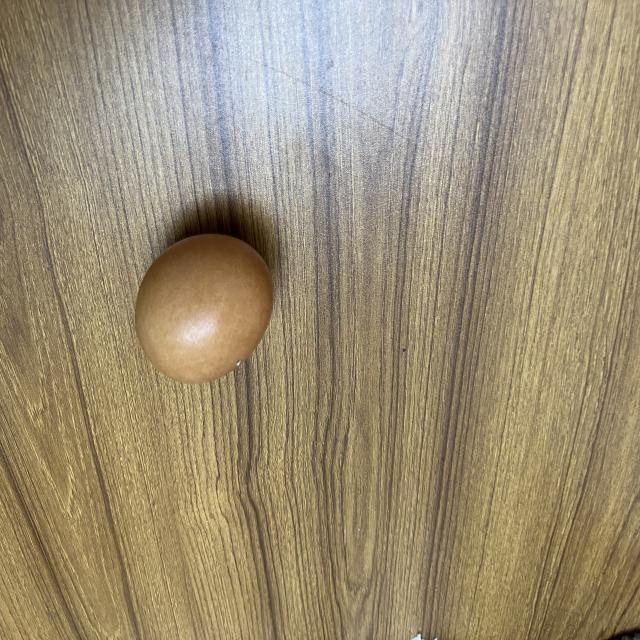Egg: (127, 230, 284, 396)
